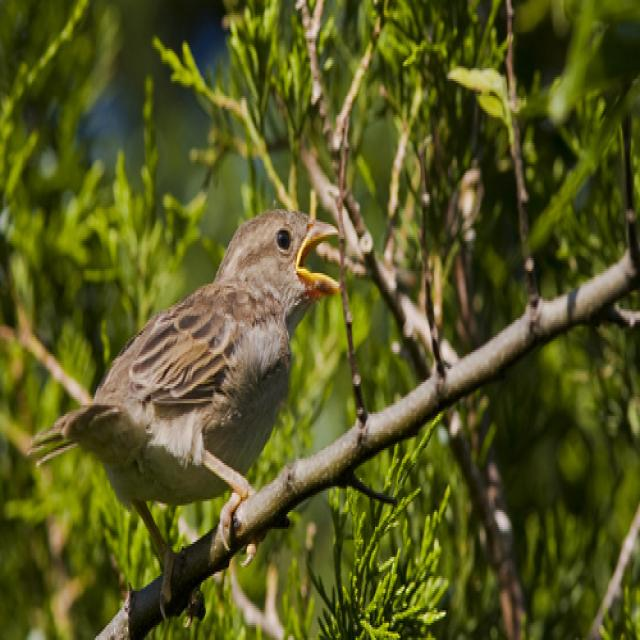not_pig: (24, 204, 342, 618)
